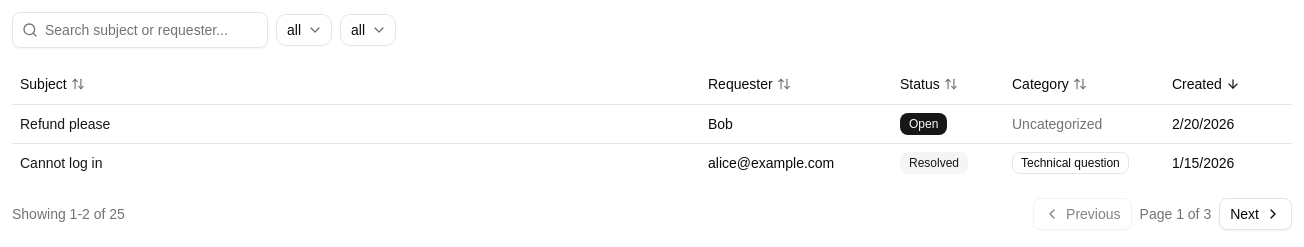
Test: TicketsTable › requests the next page when Next is clicked
Expected: the row "Refund please Bob Open Uncategorized 2/20/2026" is shown, [12, 104, 1292, 143]
Click the button "Next" at (1256, 214), box [1219, 198, 1292, 230]
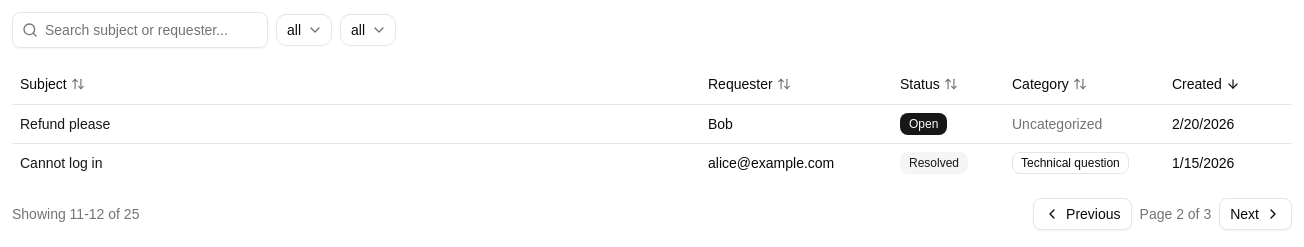
Result: the button "Previous" is enabled at [1033, 198, 1132, 230]
